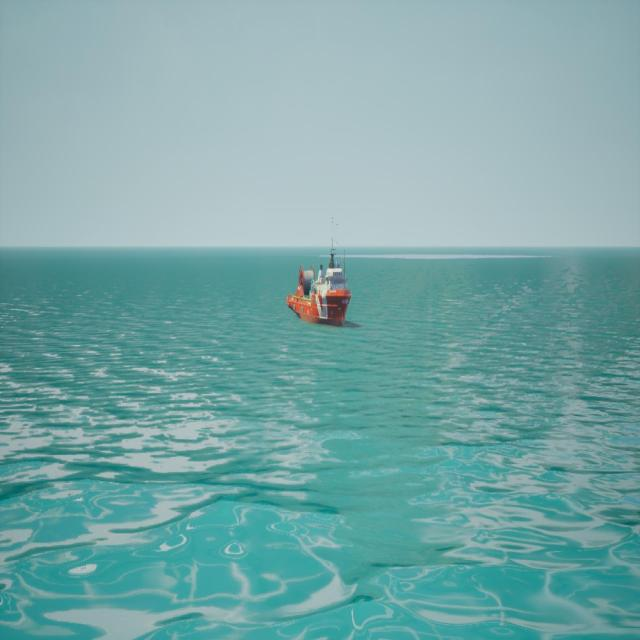tug boat: (287, 210, 352, 331)
